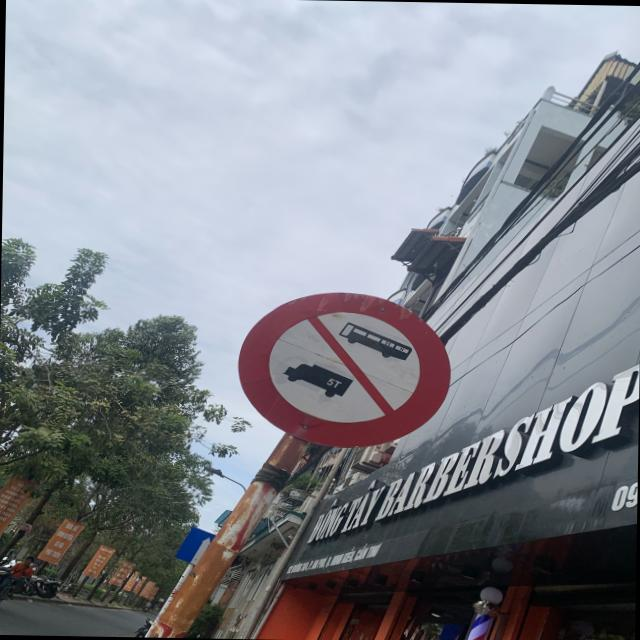Cam_XeTai_XeKhach: (234, 289, 453, 451)
